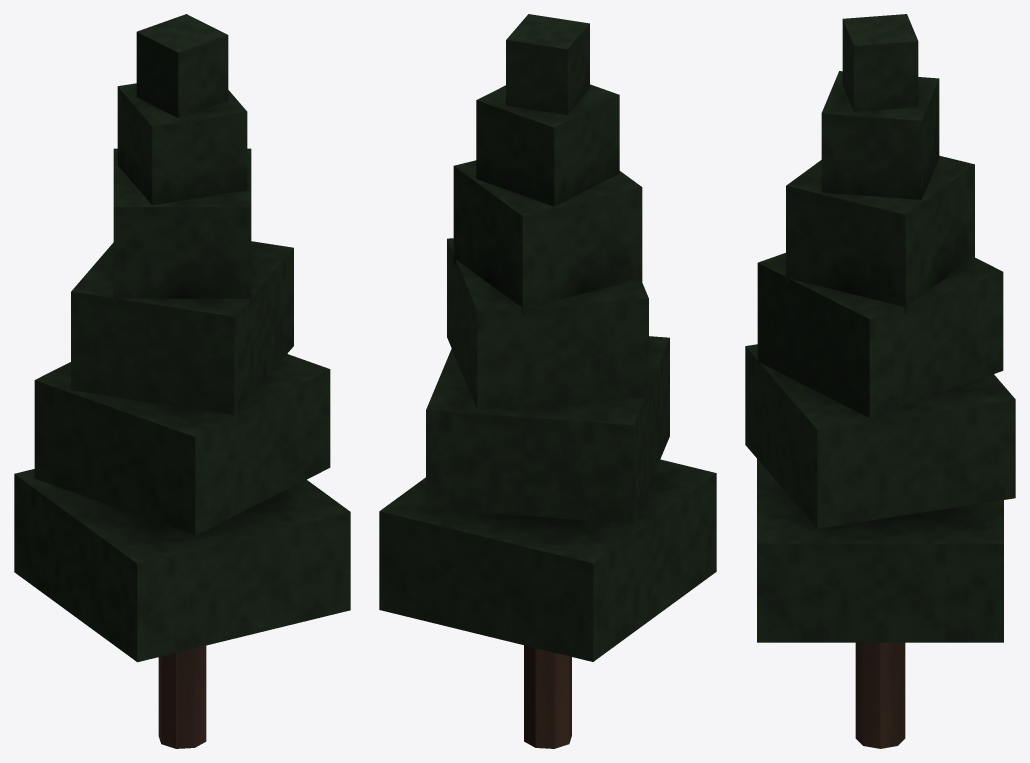
The model's file is cedar.glb.
The picture shows the model from 3 angles, left to right: view 1: azimuth 30°, elevation 25°; view 2: azimuth 150°, elevation 25°; view 3: azimuth 270°, elevation 25°; orthographic projection.
Parts seen in each view (by area): view 1: cedar; view 2: cedar; view 3: cedar.
Part boxes in pixels (x1,y1,x2,y2): cedar: (14, 14, 350, 748); cedar: (379, 14, 716, 748); cedar: (745, 14, 1015, 748).
Size of the model in its own units: 3.72 by 10.75 by 3.72.
Materials: 2 (2 with a texture image).
